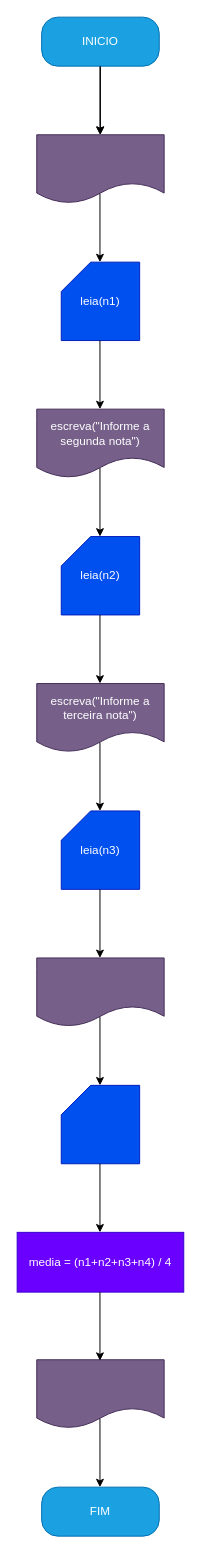
This 201x1553 diagram has some shape labels left out. Each missing label, with the centre of its shape:
escreva("A media das notas é " , media): pixel 100 1393
escreva("Informe a primeira nota"): pixel 100 168
escreva("Informe a quarta nota"): pixel 100 992
leia(n4): pixel 100 1124
